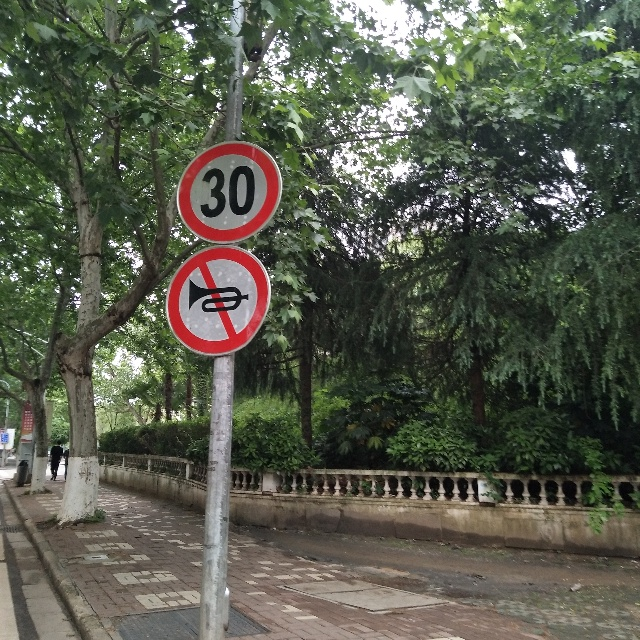nohonk: (165, 239, 274, 359)
